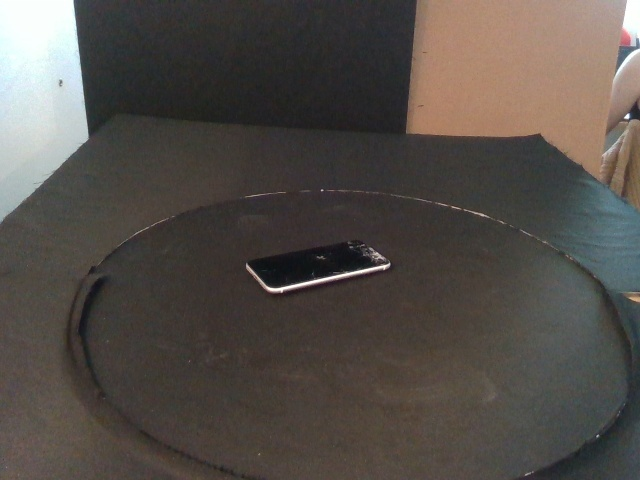phone: (244, 238, 392, 295)
